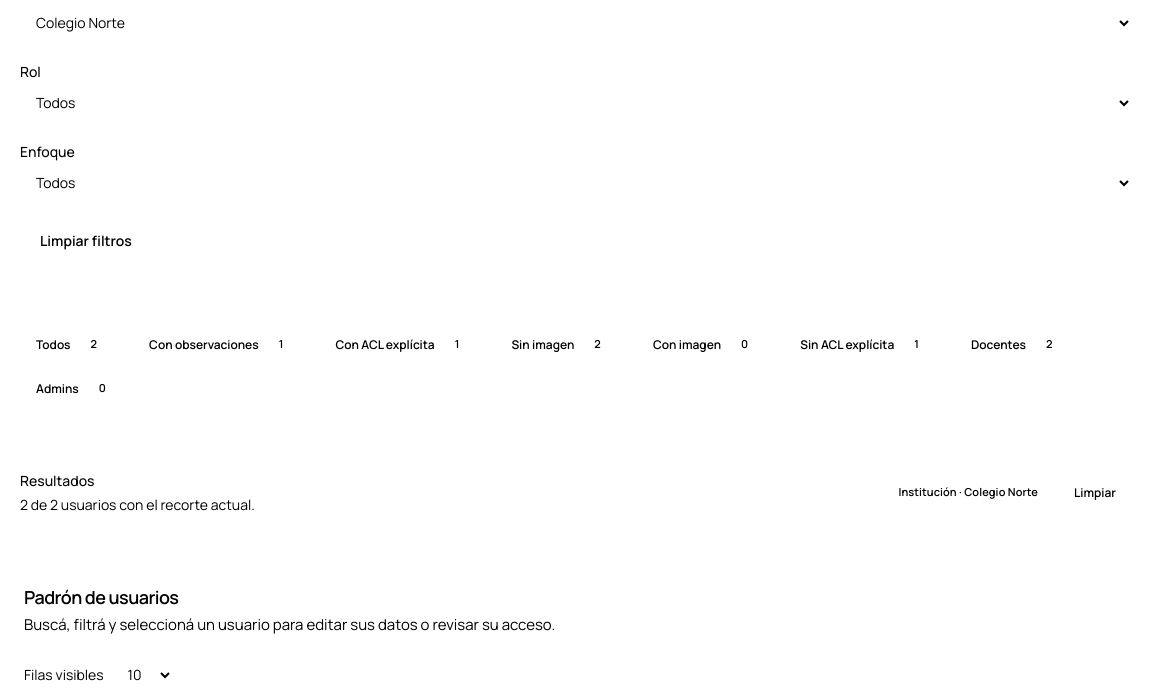
Scenario: UsersTable › filters the roster with quick operational focus segments
(page scrolled)
Click the button "Sin ACL explícita 1" at (866, 344), box left=784, top=326, right=947, bottom=362
(page scrolled)
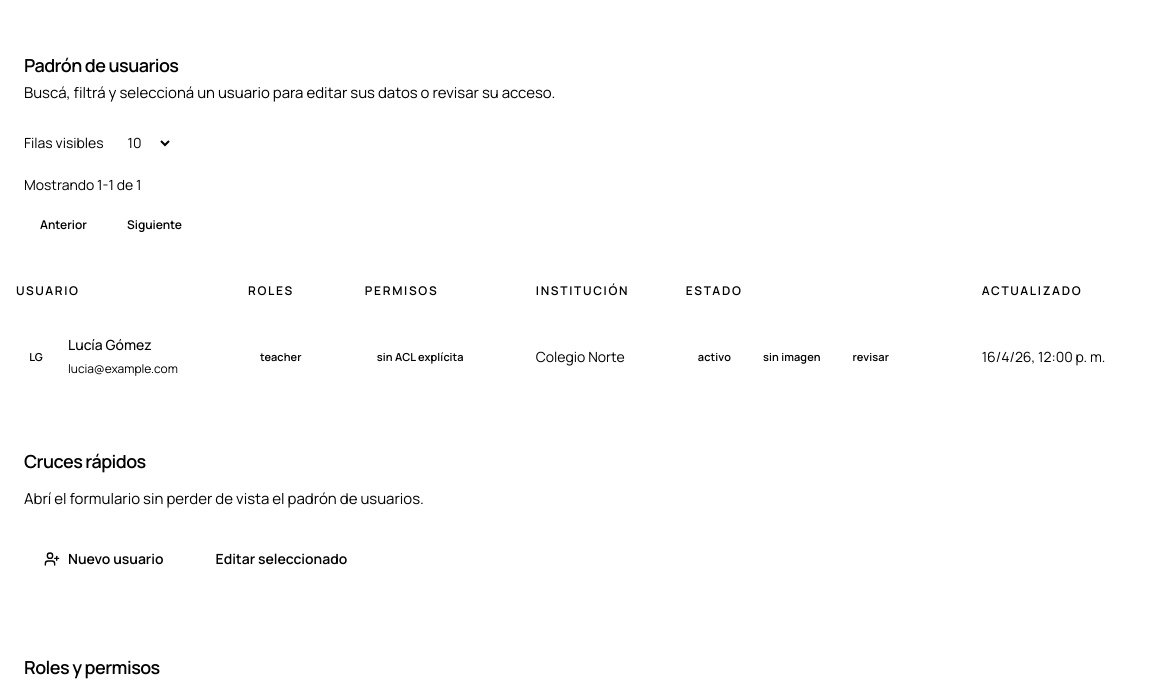
Expected: the text "Lucía Gómez" is shown, left=68, top=334, right=152, bottom=354
Result: the text "Juan Pérez" is not shown
